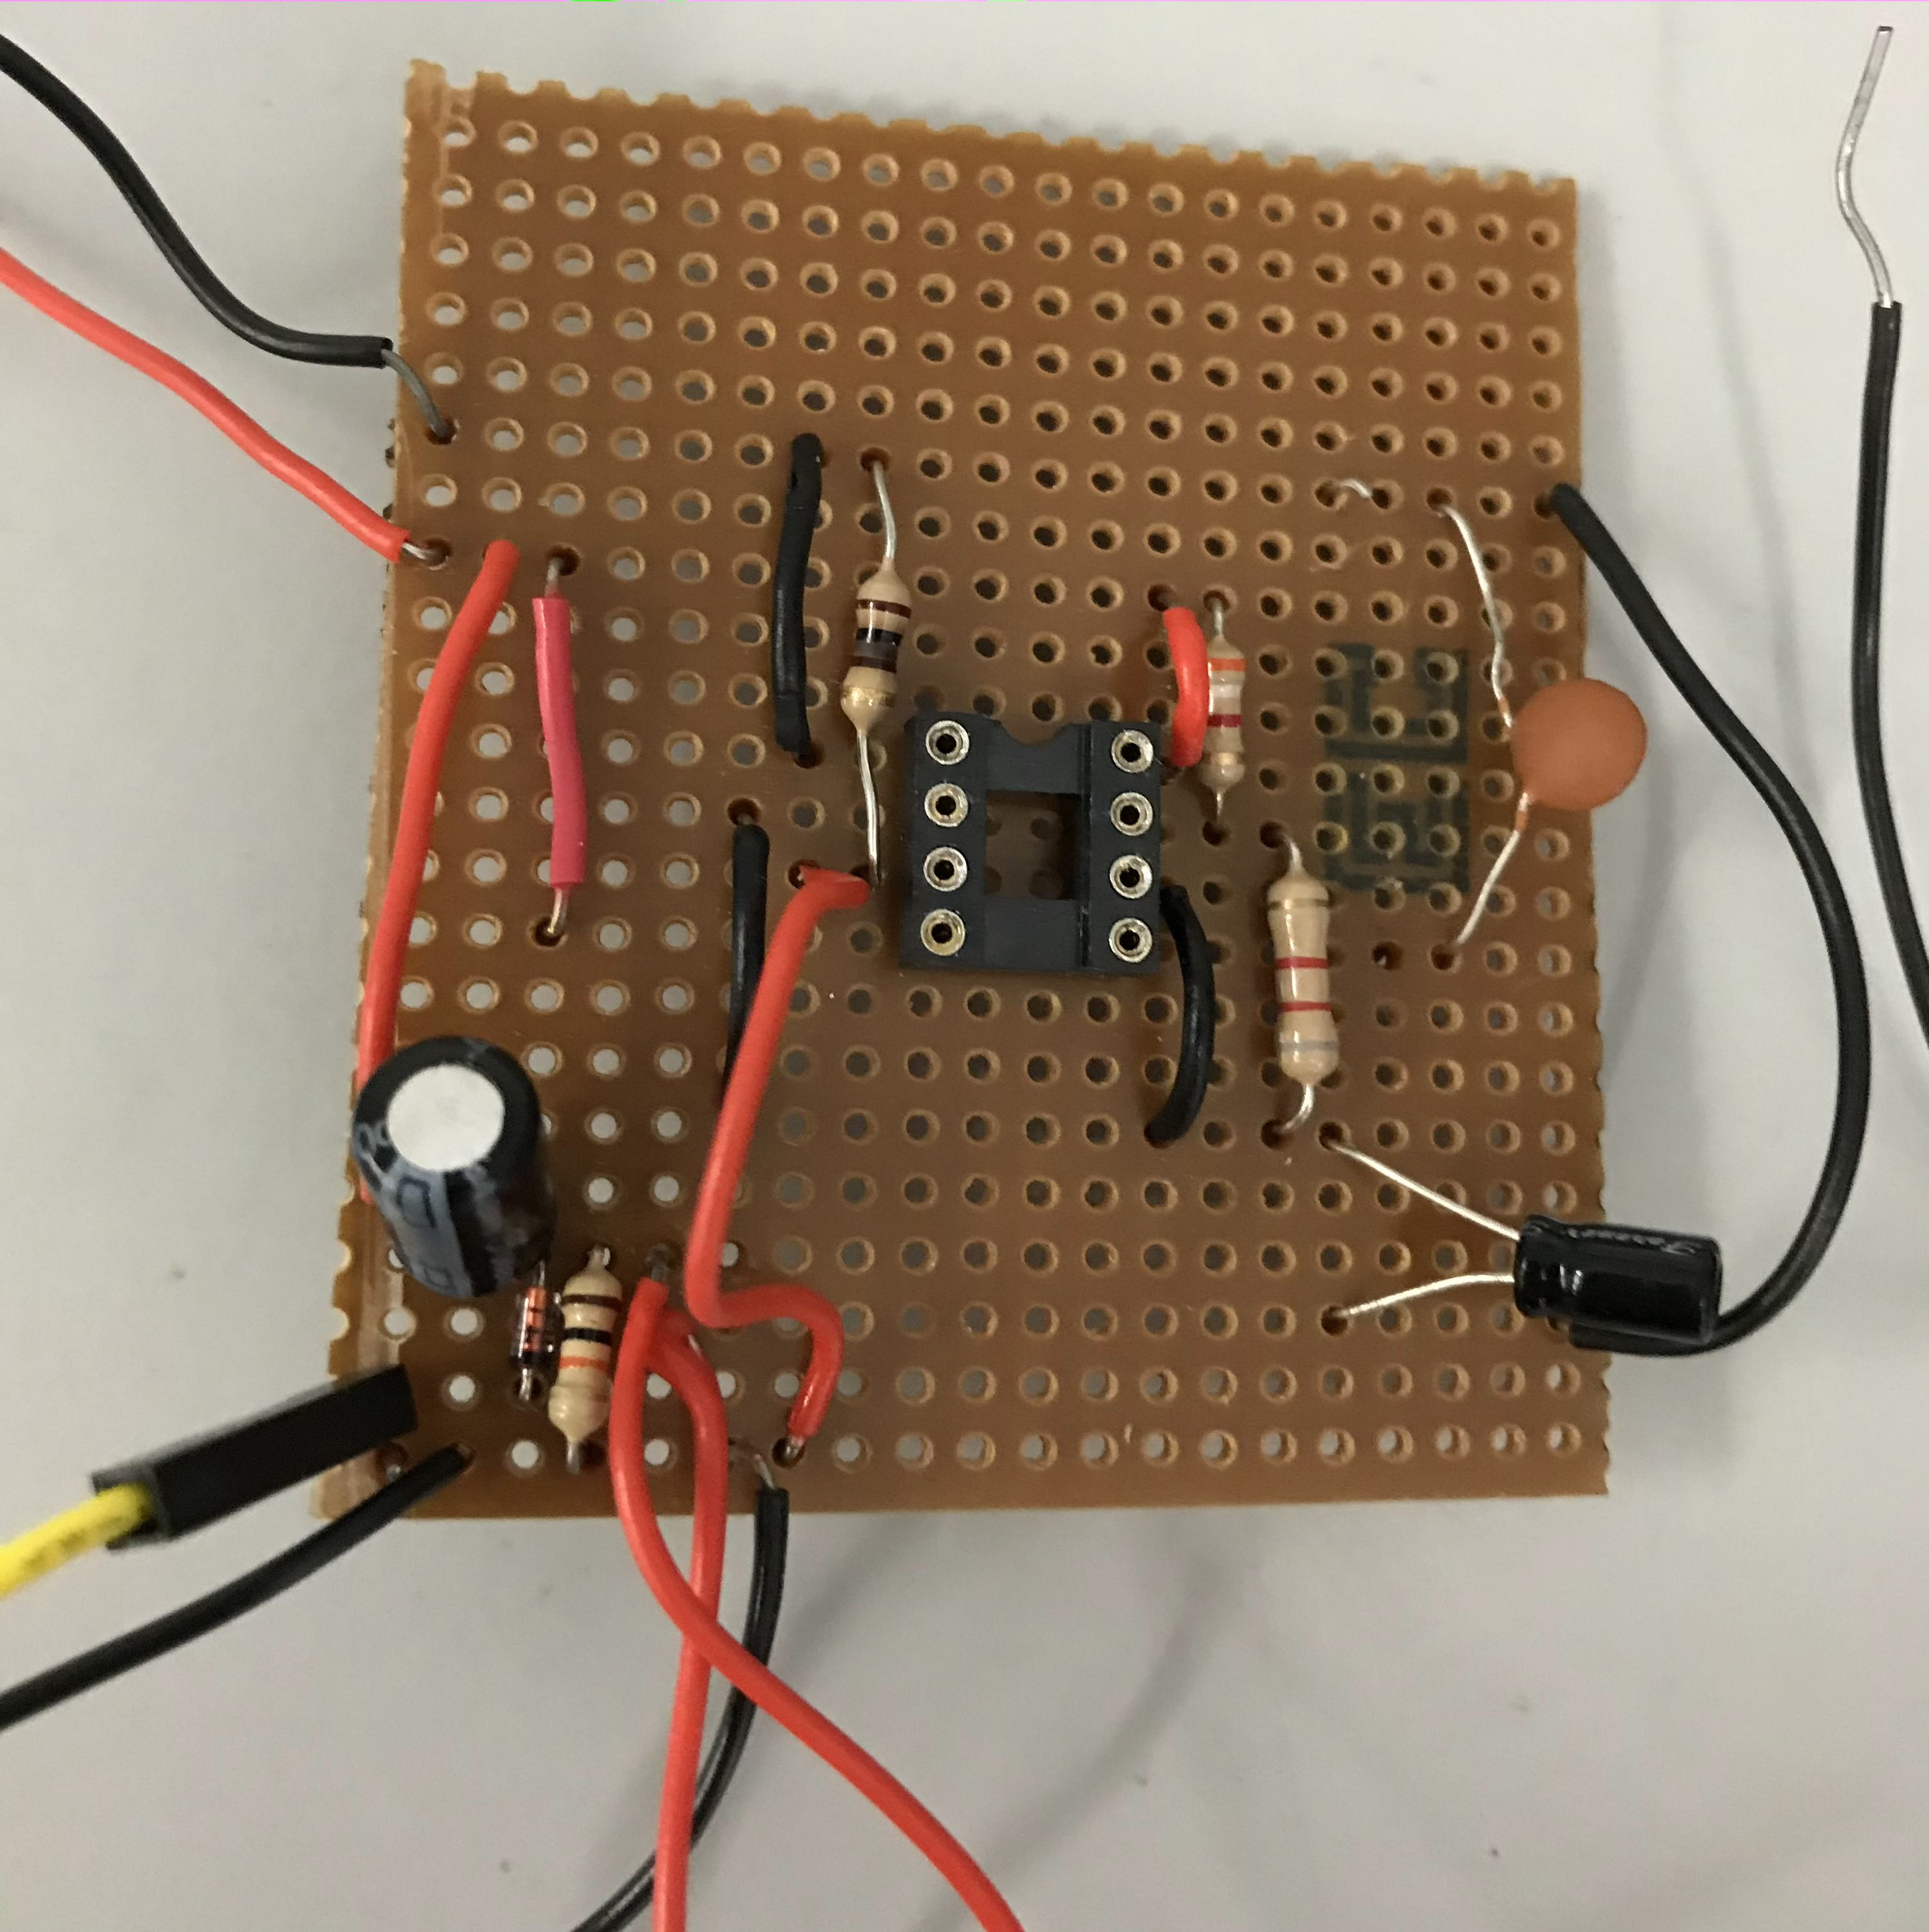Capacitor: (348, 1029, 555, 1308), (1496, 1211, 1731, 1358)
Diode: (507, 1282, 562, 1373)
Resistor: (1251, 868, 1351, 1094), (832, 560, 919, 751), (551, 1257, 625, 1455), (1191, 628, 1258, 799)
